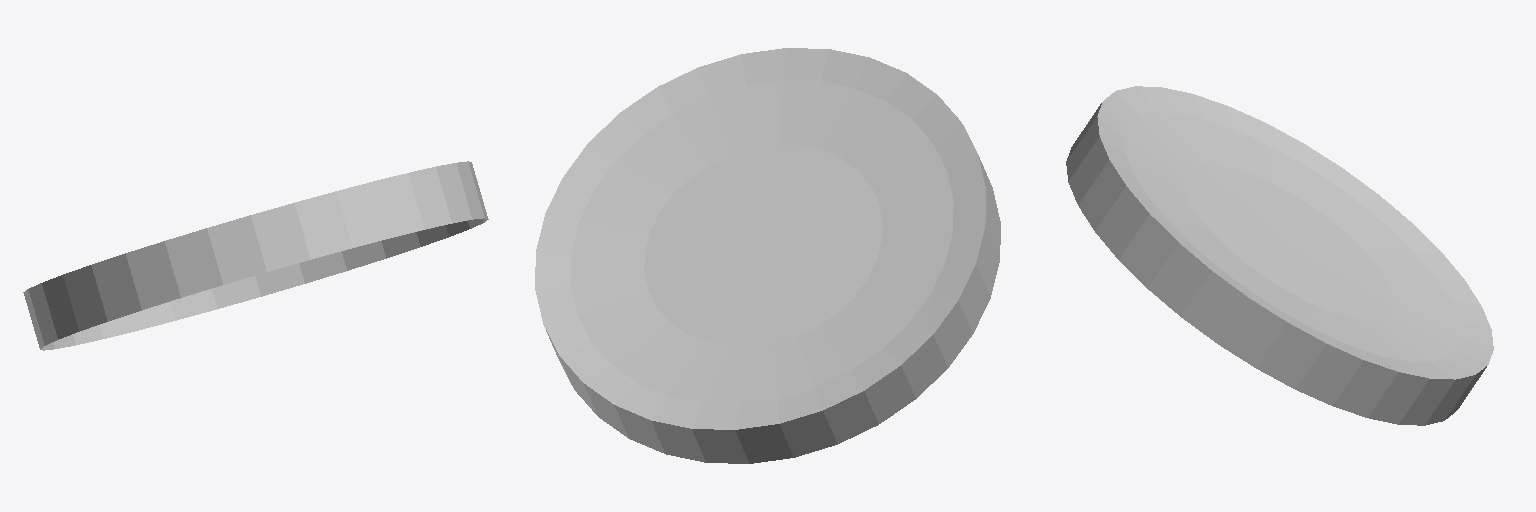
The model's file is oculus_quest_pro_controller_left_button_menu.obj.
3 views of the same model, side by side, from view 1: azimuth 30°, elevation 25°; view 2: azimuth 150°, elevation 25°; view 3: azimuth 270°, elevation 25° (orthographic).
Parts seen in each view (by area): view 1: oculus_quest_pro_controller_left_button_menu; view 2: oculus_quest_pro_controller_left_button_menu; view 3: oculus_quest_pro_controller_left_button_menu.
Boxes of the visible parts, x1,y1,x2,y2 form: oculus_quest_pro_controller_left_button_menu: [23, 161, 488, 350]; oculus_quest_pro_controller_left_button_menu: [535, 48, 1000, 463]; oculus_quest_pro_controller_left_button_menu: [1066, 86, 1493, 425].
Size of the model in its own units: 0.009 by 0.0057 by 0.0082.